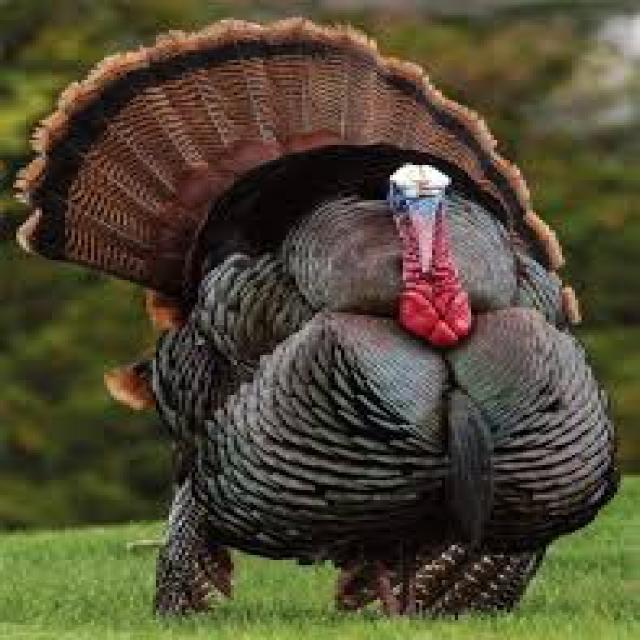Turkey: (13, 16, 640, 629)
